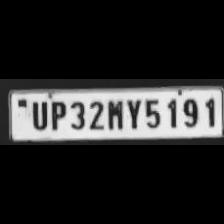1: (200, 94, 218, 128), (163, 95, 179, 129)
2: (86, 97, 104, 130)
3: (66, 97, 86, 130)
5: (142, 96, 162, 130)
9: (180, 94, 200, 128)
M: (104, 97, 124, 130)
P: (47, 99, 66, 131)
U: (28, 99, 48, 131)
Y: (124, 97, 142, 131)
